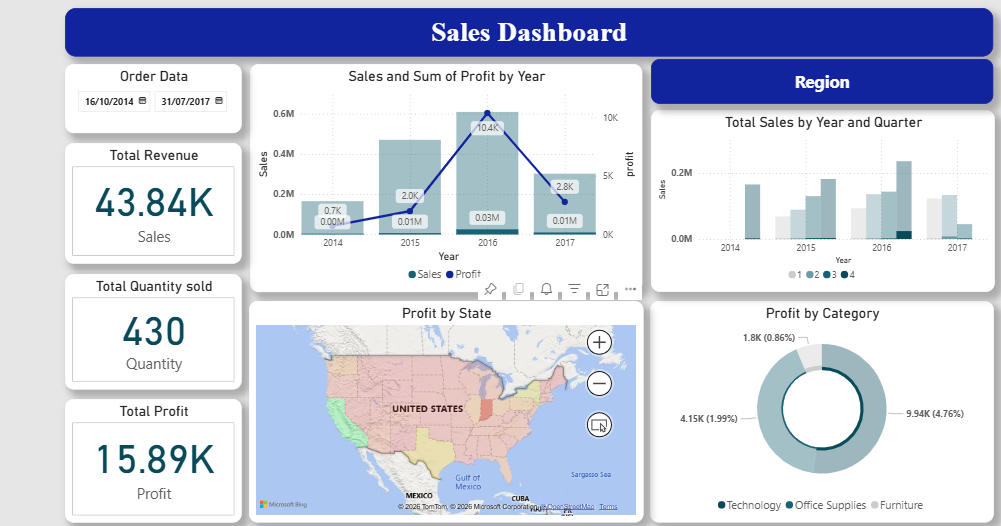

Layout of this report page (visuals, bound fields, positions):
{"tool":"powerbi","page":{"name":"Sales","canvas":[1280,720],"ordinal":0},"visuals":[{"type":"textbox","box":[7.3,11.7,1261.5,65.9],"z":0},{"type":"lineClusteredColumnComboChart","title":"Sales and Sum of Profit by Year","fields":{"Category":["Orders.Year"],"Y":["Sum(Orders.Sales)"],"Y2":["Sum(Orders.Profit)"]},"box":[257.6,87.8,532.7,310.2],"z":1000},{"type":"donutChart","title":"Profit by Category","fields":{"Category":["Orders.Category"],"Y":["Sum(Orders.Profit)"]},"box":[802,409.8,466.8,301.5],"z":2000},{"type":"slicer","title":"Order Data","fields":{"Values":["Orders.Order Date"]},"box":[7.3,87.8,240,93.7],"z":3000},{"type":"cardVisual","title":"Total Revenue","fields":{"Data":["Sum(Orders.Sales)"]},"box":[7.3,196.1,240,163.9],"z":4000},{"type":"cardVisual","title":"Total Quantity sold","fields":{"Data":["Sum(Orders.Quantity)"]},"box":[7.3,373.2,240,156.6],"z":5000},{"type":"cardVisual","title":"Total Profit","fields":{"Data":["Sum(Orders.Profit)"]},"box":[7.3,542.9,240,168.3],"z":6000},{"type":"clusteredColumnChart","title":"Total Sales by Year and Quarter","fields":{"Category":["Orders.Year"],"Y":["Sum(Orders.Sales)"],"Series":["Orders.Quarter"]},"box":[803.4,150.7,466.8,247.3],"z":7000},{"type":"filledMap","fields":{"Category":["Orders.State"]},"box":[256.1,409.8,535.6,301.5],"z":8000},{"type":"actionButton","box":[803.4,82,465.4,61.5],"z":9000}]}

Visuals, with their boxes on the page's 1280x720 design canvas (x1, y1, x2, y2). These are canvas units, not pixel positions in the 1001x526 screenshot, which may show the page scaled, cropped or inside an application window:
textbox: (left=7, top=12, right=1269, bottom=78)
"Sales and Sum of Profit by Year" lineClusteredColumnComboChart: (left=258, top=88, right=790, bottom=398)
"Profit by Category" donutChart: (left=802, top=410, right=1269, bottom=711)
"Order Data" slicer: (left=7, top=88, right=247, bottom=182)
"Total Revenue" cardVisual: (left=7, top=196, right=247, bottom=360)
"Total Quantity sold" cardVisual: (left=7, top=373, right=247, bottom=530)
"Total Profit" cardVisual: (left=7, top=543, right=247, bottom=711)
"Total Sales by Year and Quarter" clusteredColumnChart: (left=803, top=151, right=1270, bottom=398)
filledMap - Orders.State: (left=256, top=410, right=792, bottom=711)
actionButton: (left=803, top=82, right=1269, bottom=144)
